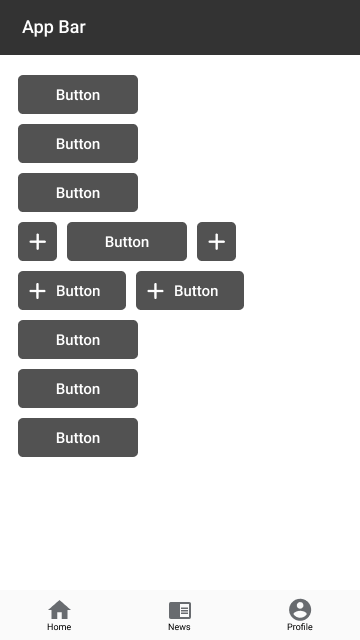button: (16, 318, 142, 362), (64, 219, 189, 263), (15, 367, 141, 410), (16, 416, 140, 459), (16, 73, 139, 116), (17, 123, 140, 165), (18, 171, 139, 213)
buttonIcon: (195, 219, 239, 264), (17, 221, 58, 262)
buttonImage: (135, 267, 247, 312), (18, 270, 128, 312)
navigationButton: (1, 587, 360, 639)
toolbar: (1, 1, 360, 56)
